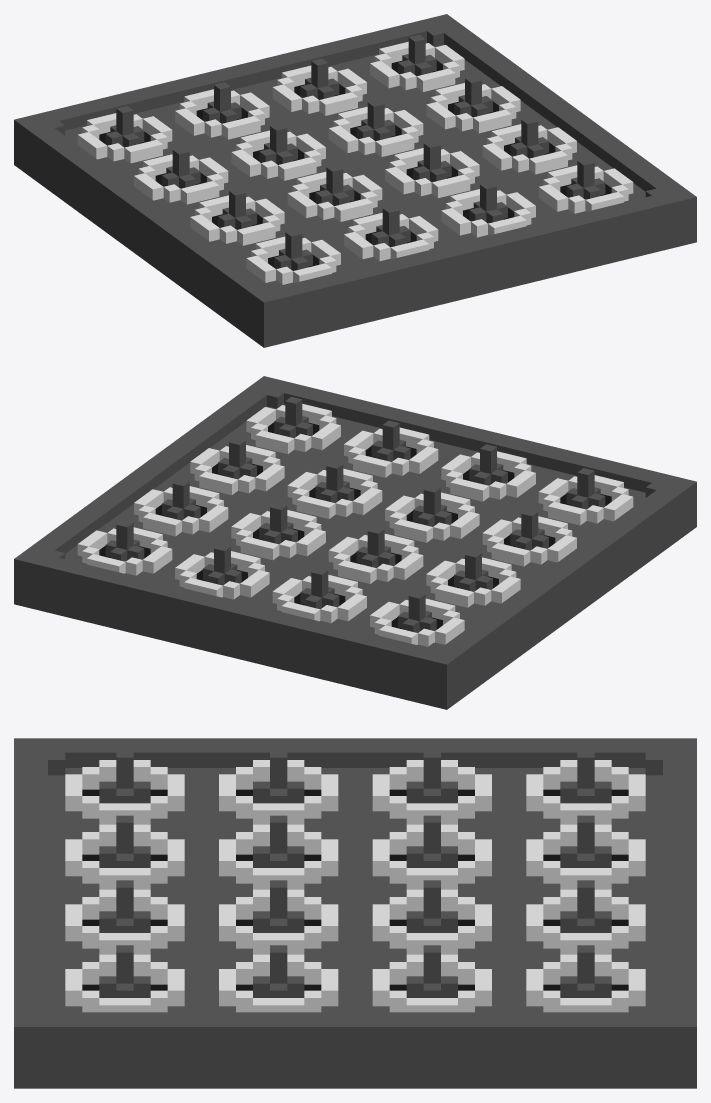
Rendered from Spike_Trap_01.obj.
3 views of the same model, one above another, from view 1: azimuth 30°, elevation 25°; view 2: azimuth 150°, elevation 25°; view 3: azimuth 270°, elevation 25° (orthographic). The views are drawn at different scales.
Parts seen in each view (by area): view 1: Spike_Trap_01; view 2: Spike_Trap_01; view 3: Spike_Trap_01.
Part boxes in pixels (x1,y1,x2,y2): Spike_Trap_01: (14,14,696,347); Spike_Trap_01: (14,376,696,709); Spike_Trap_01: (14,738,696,1088).
Size of the model in its own units: 40 by 6 by 40.
1 material, 1 textured.
